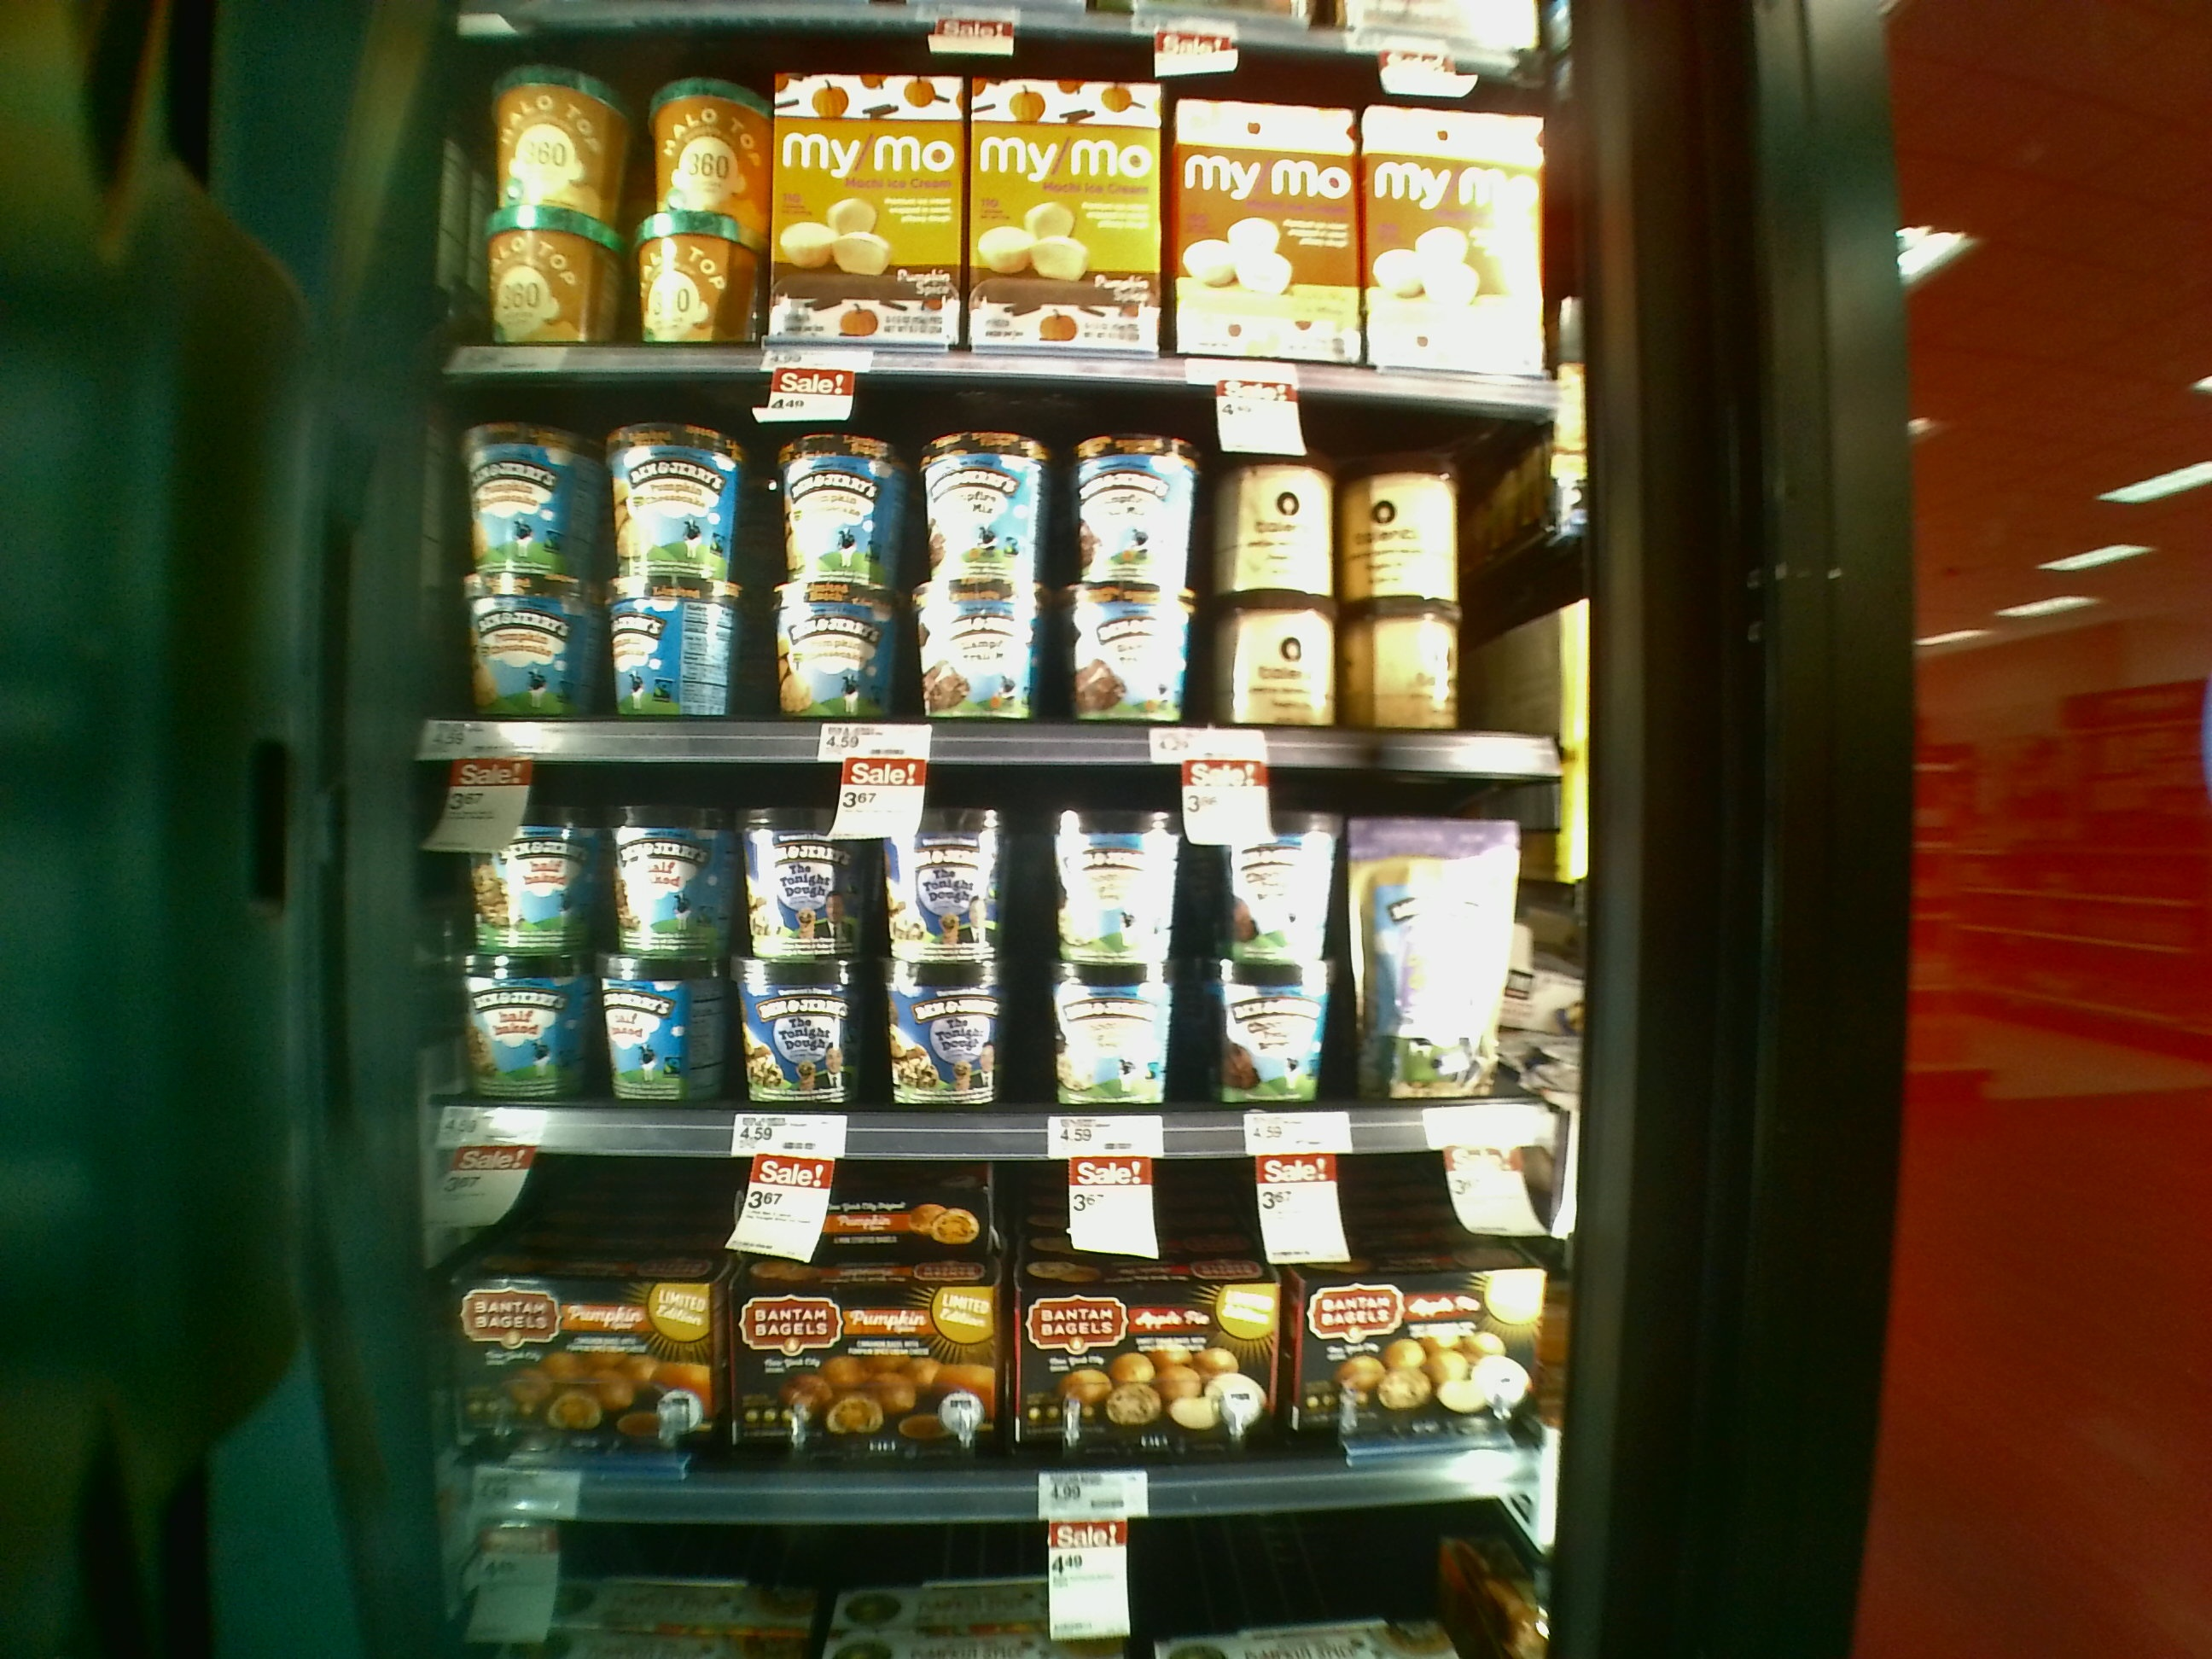shelf: (392, 732, 1594, 1150), (415, 357, 1545, 770), (383, 1122, 1534, 1507)
